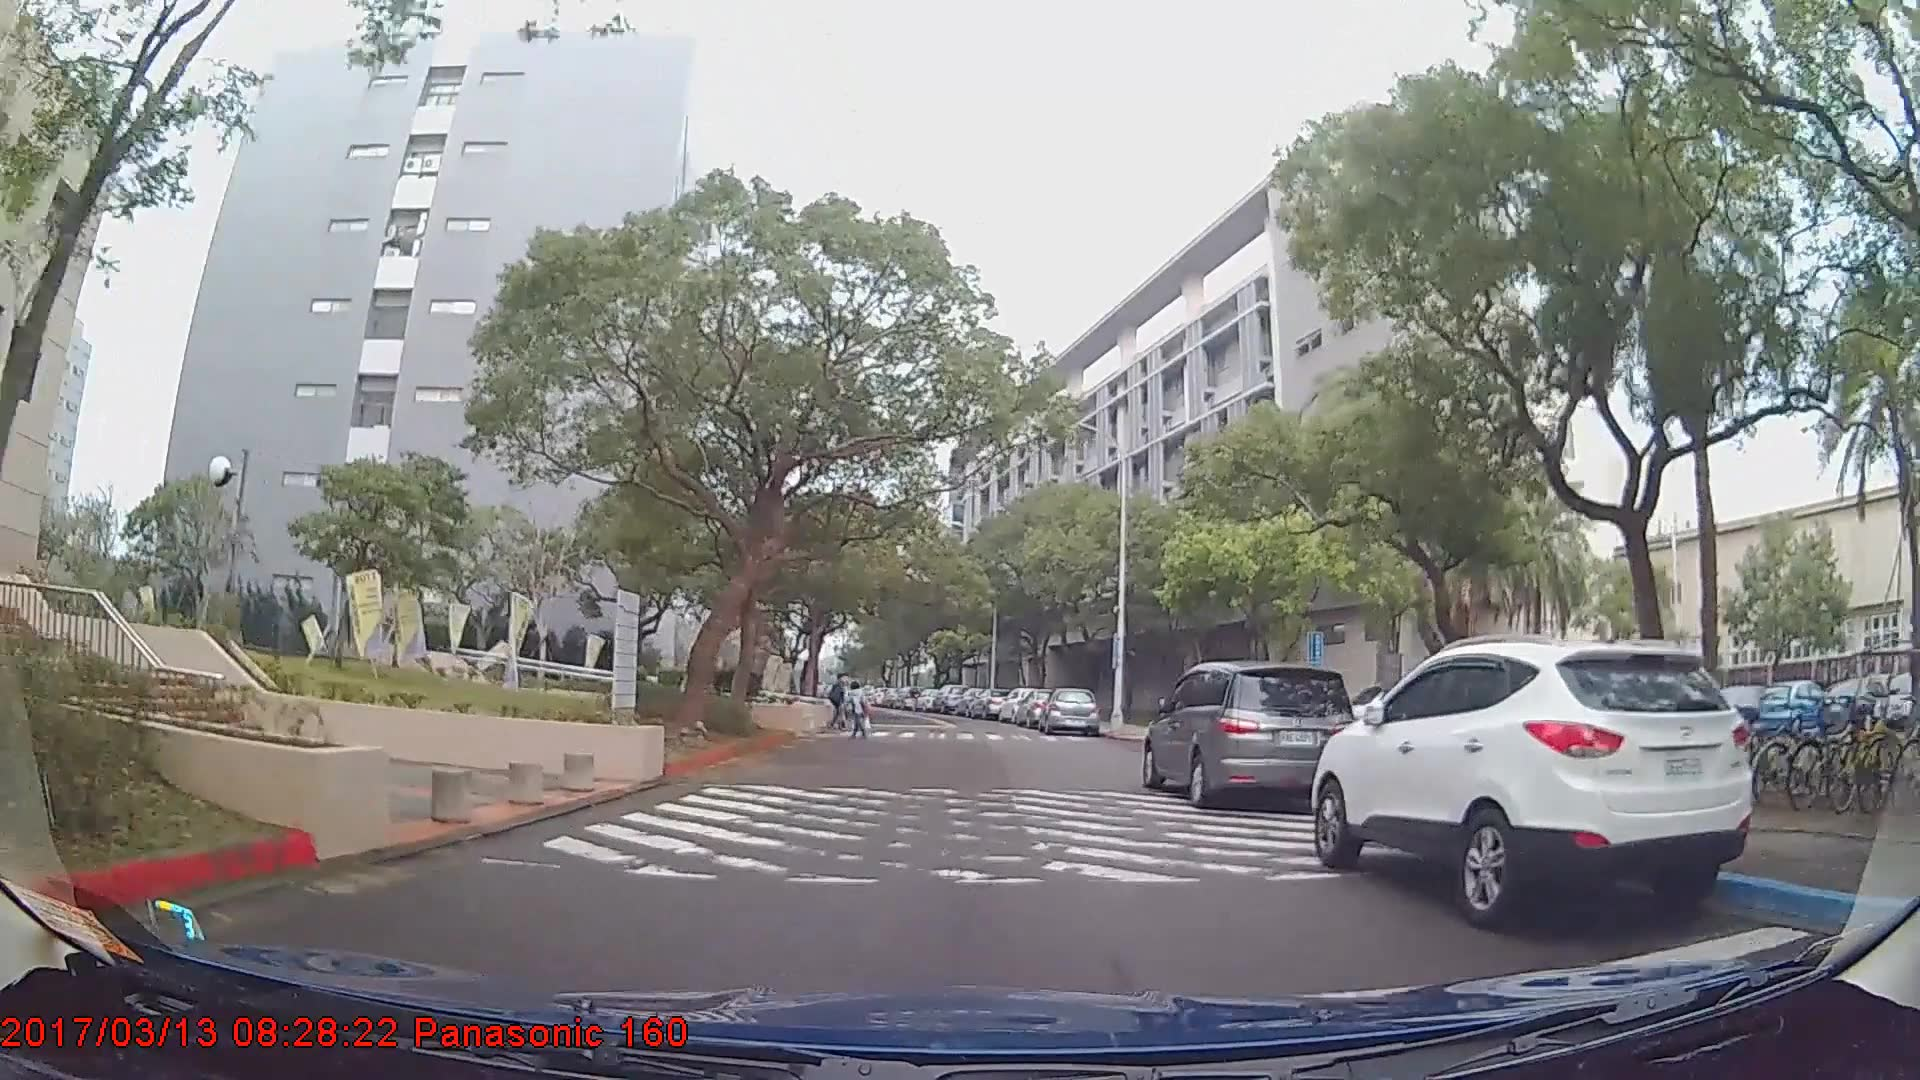pedestrian: (842, 681, 873, 743), (826, 671, 851, 728)
vehicle: (1309, 635, 1759, 931), (1142, 658, 1360, 812), (1814, 673, 1900, 734), (1755, 677, 1836, 737), (1042, 684, 1099, 736), (930, 681, 968, 713)
